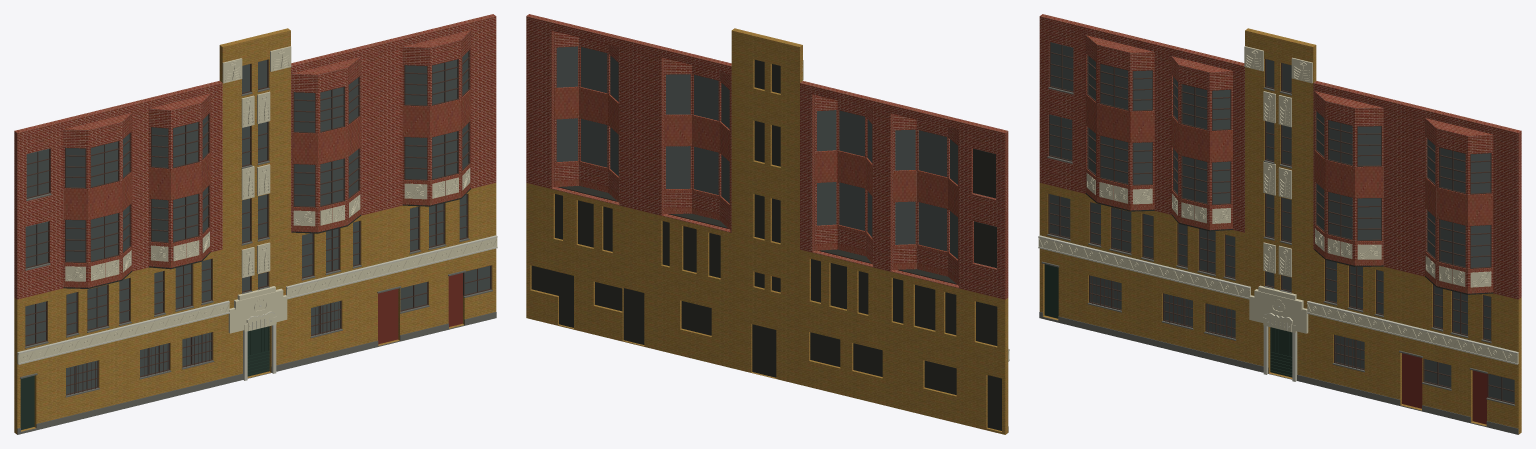
The model's file is lod-source.glb.
The picture shows the model from 3 angles, left to right: view 1: azimuth 30°, elevation 25°; view 2: azimuth 150°, elevation 25°; view 3: azimuth 330°, elevation 25°; orthographic projection.
Parts seen in each view (by area): view 1: 宛平路42号住宅双色砖墙与卷叶凸窗; view 2: 宛平路42号住宅双色砖墙与卷叶凸窗; view 3: 宛平路42号住宅双色砖墙与卷叶凸窗.
Part boxes in pixels (x1=…): 宛平路42号住宅双色砖墙与卷叶凸窗: x1=14, y1=14, x2=497, y2=434; 宛平路42号住宅双色砖墙与卷叶凸窗: x1=526, y1=14, x2=1009, y2=434; 宛平路42号住宅双色砖墙与卷叶凸窗: x1=1038, y1=14, x2=1521, y2=434.
Size of the model in its own units: 22.81 by 15.36 by 0.9272.
11 materials, 3 textured.
